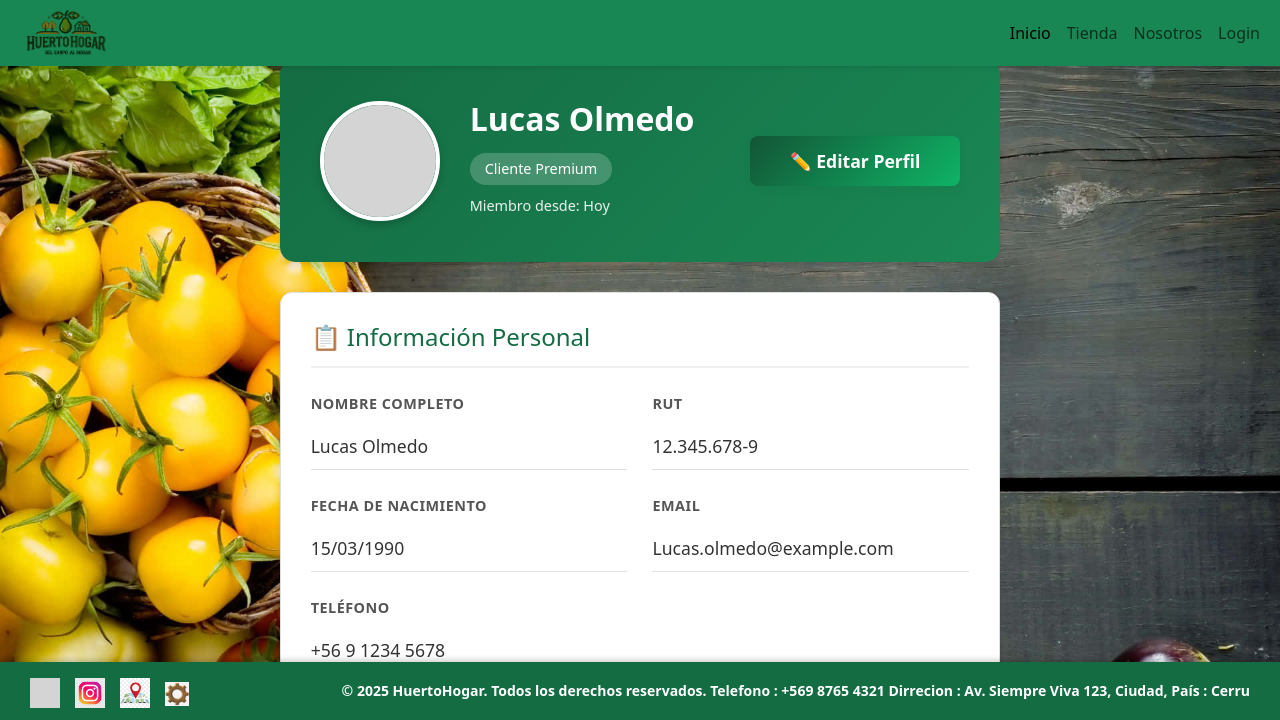
Test case: Usuario Component › 2. Activa el modo edición al hacer clic en Editar Perfil
Step 1. Click the button "✏️ Editar Perfil" → (855, 161), box [750,136,960,186]
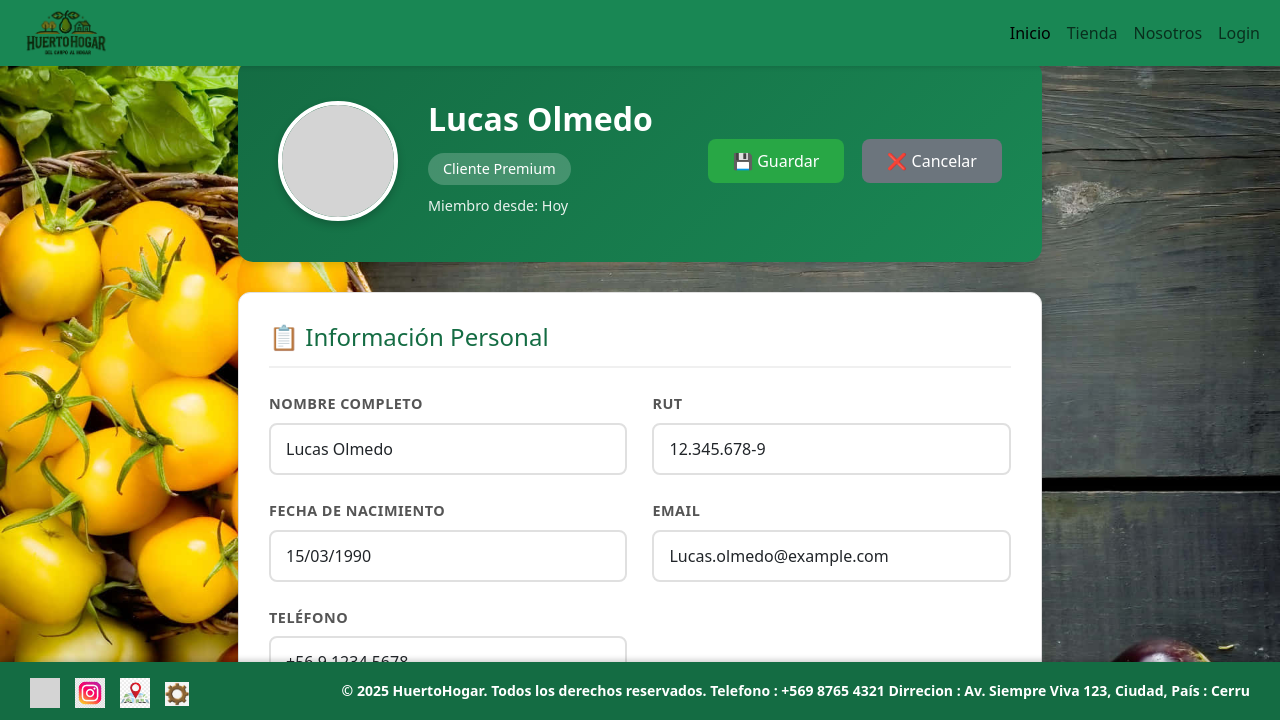
Expected: the button "💾 Guardar" is shown, [708,139,844,183]
Expected: the button "❌ Cancelar" is shown, [862,139,1002,183]
